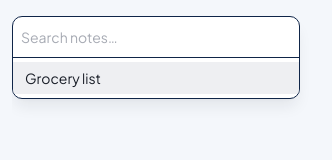
Scenario: WikilinkAutocomplete › a failed search says so and offers no Create row
The width and height of the screenshot is (332, 160).
Later steps or results of the test are not shown.
Expected: the text "Grocery list" is shown, [25,69,101,87]
Type "Budget" into the field with placeholder "Search notes…". click: (156, 37)
box: [21,27,291,47]
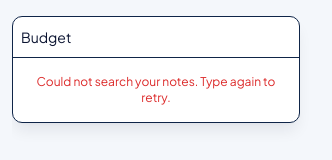
Expected: the message shows "Could not search your notes", [37,74,275,105]
